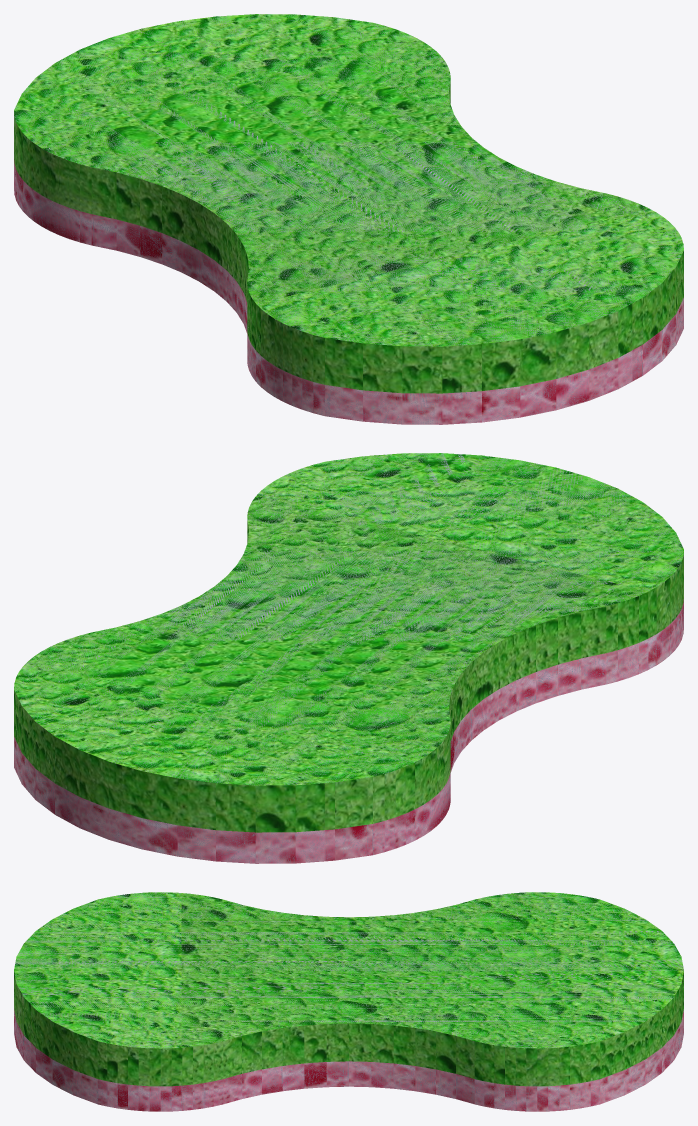
3 views of the same model, one above another, from view 1: azimuth 30°, elevation 25°; view 2: azimuth 150°, elevation 25°; view 3: azimuth 270°, elevation 25° (orthographic). The views are drawn at different scales.
Visible parts, largest first — view 1: SketchUp (×3); view 2: SketchUp (×3); view 3: SketchUp (×3).
Part boxes in pixels (x1,y1,x2,y2): SketchUp (×3): (14,14,683,424); SketchUp (×3): (14,453,683,863); SketchUp (×3): (14,892,683,1111).
Size of the model in its own units: 6.62 by 12 by 1.25.
3 materials, 2 textured.
